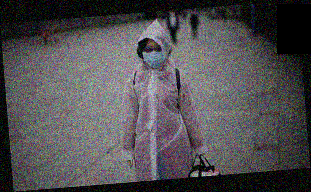with_mask: (141, 42, 165, 69)
